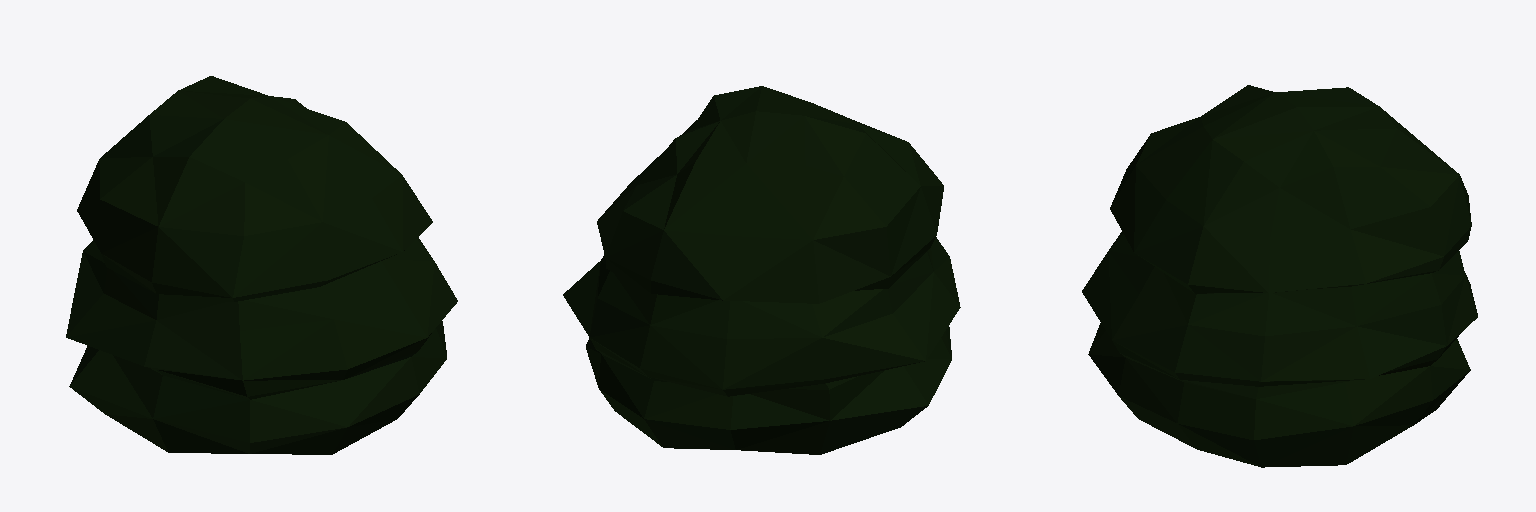
The model's file is Bush_2.obj.
3 renders of one model, left to right at view 1: azimuth 30°, elevation 25°; view 2: azimuth 150°, elevation 25°; view 3: azimuth 270°, elevation 25°, orthographic.
Parts seen in each view (by area): view 1: Bush_2_Cube.042; view 2: Bush_2_Cube.042; view 3: Bush_2_Cube.042.
Boxes of the visible parts, x1,y1,x2,y2 form: Bush_2_Cube.042: [66, 76, 457, 454]; Bush_2_Cube.042: [563, 86, 960, 454]; Bush_2_Cube.042: [1082, 85, 1477, 467].
Size of the model in its own units: 1.35 by 1.11 by 1.33.